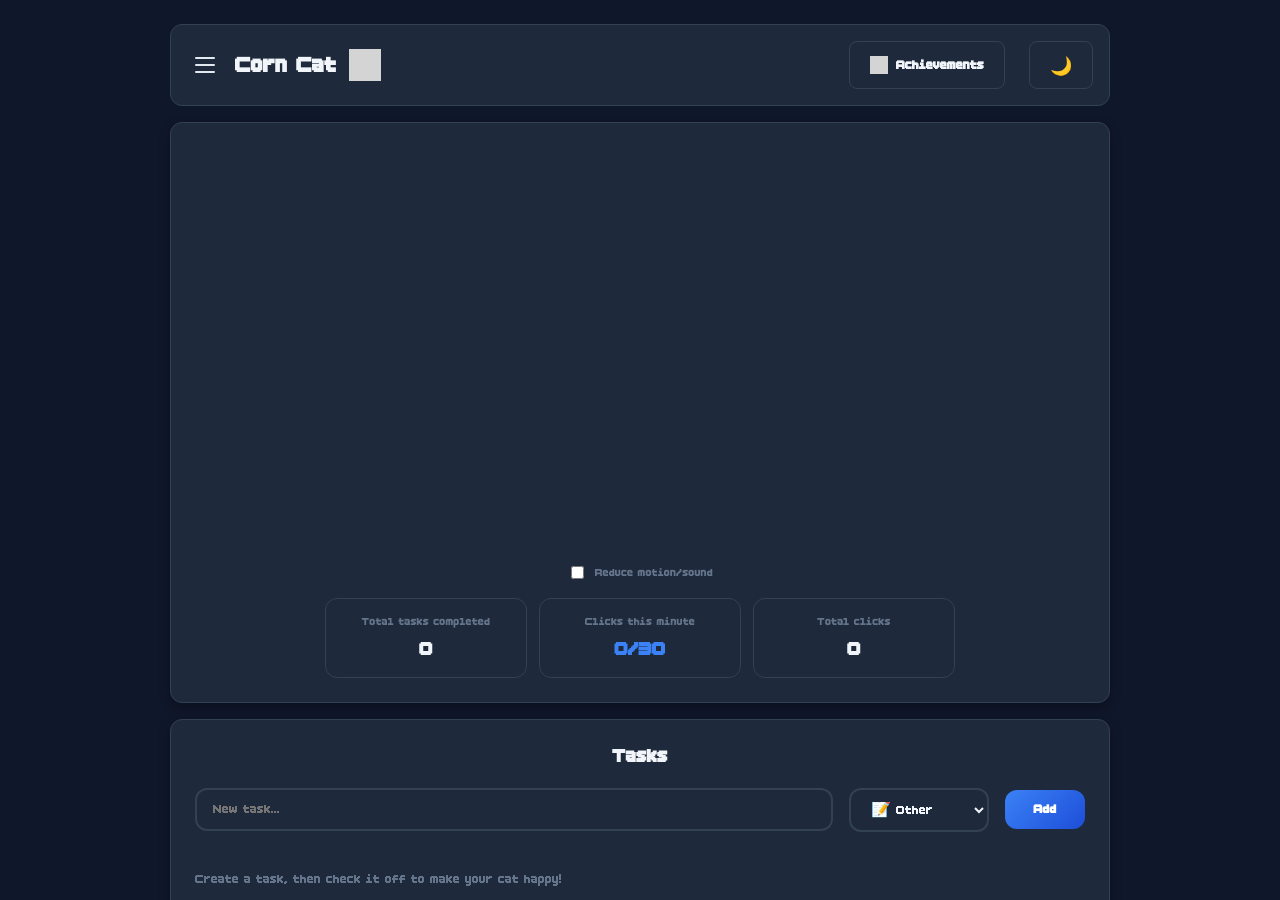
Test: App › should add new task
Type "Test task" into the field with placeholder "New task…" at (514, 810), box [195, 788, 833, 831]
Then press Enter
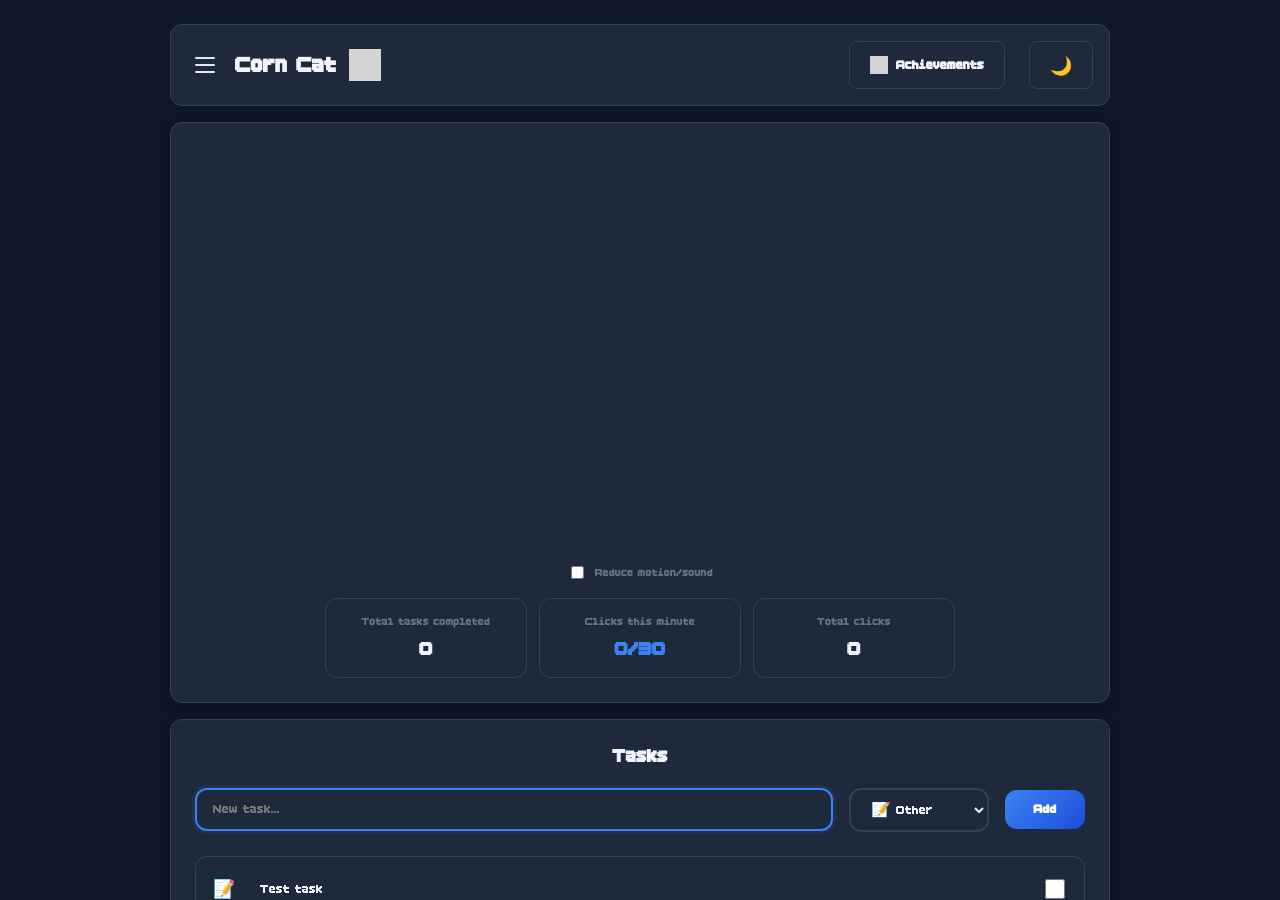
expect the text "Test task" is shown: met, box [260, 882, 323, 896]
